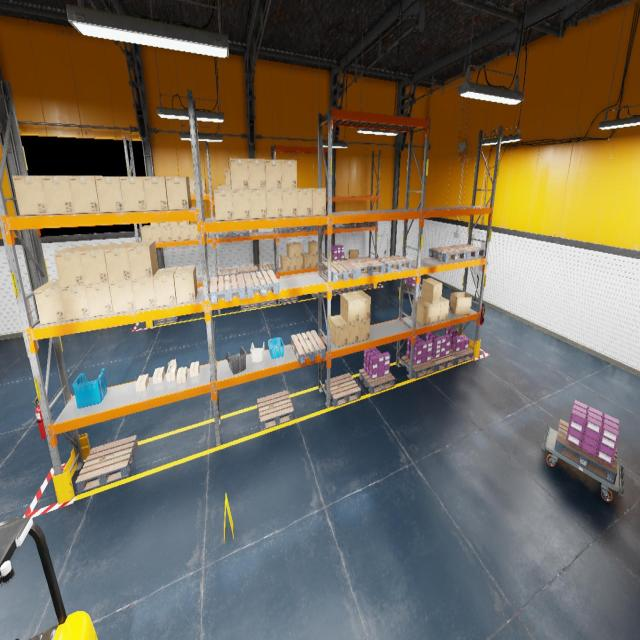box: (54, 245, 92, 287), (34, 280, 66, 324), (12, 176, 48, 215), (80, 243, 114, 284), (41, 176, 75, 215), (104, 242, 135, 281), (127, 241, 158, 279), (69, 176, 100, 213), (60, 285, 90, 321), (95, 176, 124, 212), (85, 282, 113, 317), (120, 176, 146, 212), (153, 267, 177, 306), (109, 280, 135, 314), (143, 176, 168, 211), (174, 265, 197, 303), (165, 177, 191, 210), (132, 277, 156, 310), (340, 292, 360, 323), (229, 158, 249, 189), (214, 188, 233, 220), (411, 297, 432, 325), (330, 315, 348, 347), (352, 290, 371, 320), (248, 159, 266, 189), (232, 190, 250, 219), (341, 316, 359, 344), (264, 160, 282, 188), (249, 190, 267, 218), (422, 278, 442, 303), (450, 292, 471, 315), (266, 189, 282, 218), (309, 188, 326, 215), (421, 298, 440, 322), (281, 160, 297, 188), (297, 188, 312, 216), (282, 189, 297, 217), (359, 318, 370, 342), (166, 359, 177, 382), (135, 374, 149, 392), (439, 296, 449, 321), (176, 367, 188, 384), (152, 367, 164, 383), (160, 226, 172, 242), (151, 227, 162, 242), (189, 223, 199, 239), (170, 226, 181, 240), (141, 226, 152, 240), (180, 225, 190, 240), (190, 361, 199, 377), (308, 253, 318, 267), (308, 240, 318, 254), (280, 256, 290, 270), (286, 243, 296, 257), (303, 253, 311, 268), (294, 242, 302, 256), (288, 256, 296, 270), (348, 249, 359, 259), (189, 179, 195, 194), (296, 256, 303, 268), (225, 170, 230, 184), (202, 179, 206, 194), (180, 221, 190, 225), (170, 222, 180, 226), (160, 222, 170, 226), (150, 223, 160, 227), (217, 185, 226, 188), (322, 252, 324, 262), (206, 233, 209, 238), (226, 185, 230, 188), (196, 267, 197, 274)
forklift: (0, 517, 98, 639)
pallets: (554, 420, 617, 484), (75, 435, 138, 493), (257, 391, 294, 430), (324, 373, 360, 407), (290, 330, 326, 364), (210, 274, 246, 303), (243, 270, 279, 298), (359, 369, 395, 394), (322, 260, 358, 282), (346, 257, 385, 277), (401, 356, 436, 378), (376, 255, 412, 272), (429, 246, 466, 262), (449, 244, 485, 259), (431, 353, 456, 371), (450, 348, 474, 364), (154, 316, 178, 326), (239, 265, 258, 277), (404, 282, 422, 293), (219, 268, 239, 277), (258, 263, 276, 273), (241, 302, 259, 310), (215, 231, 232, 239), (260, 299, 276, 307), (232, 230, 250, 237), (280, 296, 298, 303), (312, 291, 326, 298), (332, 288, 346, 295), (293, 226, 309, 232), (310, 224, 326, 230), (343, 222, 362, 227), (360, 283, 373, 290), (278, 227, 293, 233), (346, 286, 360, 292), (331, 258, 347, 262), (362, 222, 375, 226)
